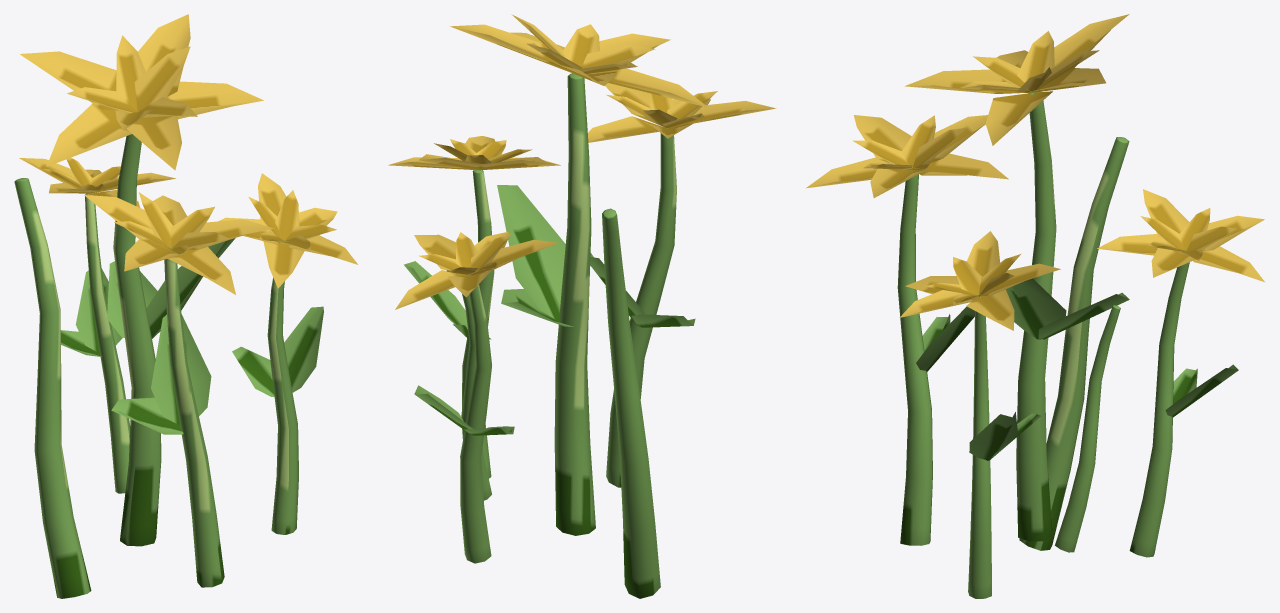
Rendered from FLowerYellow.fbx.
3 renders of one model, left to right at view 1: azimuth 30°, elevation 25°; view 2: azimuth 150°, elevation 25°; view 3: azimuth 270°, elevation 25°, orthographic. The views are drawn at different scales.
Visible parts, largest first — view 1: Flower6; view 2: Flower6; view 3: Flower6.
Boxes of the visible parts, bbox=[...] form: Flower6: bbox=[14, 14, 357, 598]; Flower6: bbox=[388, 14, 776, 598]; Flower6: bbox=[806, 14, 1264, 598].
Size of the model in its own units: 23.8 by 39.96 by 30.89.
Materials: 1 (1 with a texture image).
